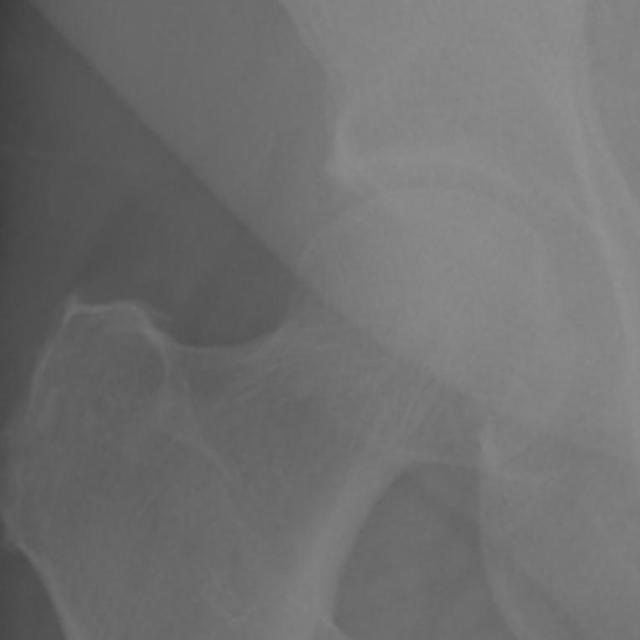Fitted_femural_head: (280, 190, 432, 280)
